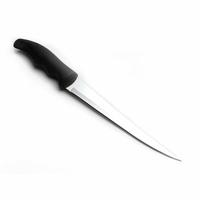knife: (10, 37, 186, 164)
